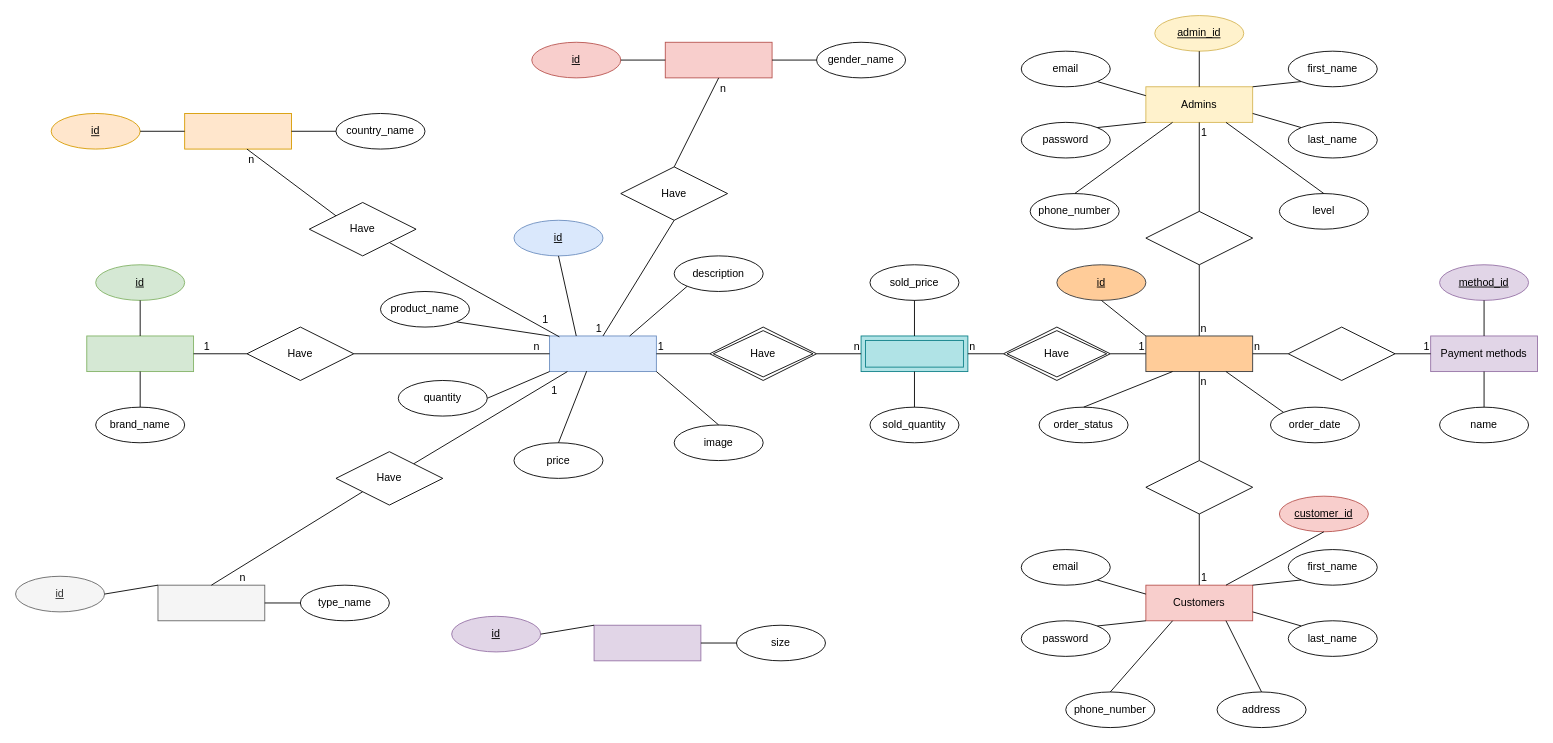
Some shapes in this 1553 by 743 pixel diagram are drawn without their labels. The centre of each missing label's shape, as x and y in pixels:
"Apply" belongs at point (1341, 353).
"Brands" belongs at point (140, 353).
"Buy" belongs at point (1199, 487).
"Countries" belongs at point (237, 131).
"Genders" belongs at point (718, 59).
"Manage" belongs at point (1199, 237).
"Orders" belongs at point (1199, 353).
"Orders details" belongs at point (914, 353).
"Product types" belongs at point (211, 602).
"Products" belongs at point (602, 353).
"Sizes" belongs at point (647, 642).
